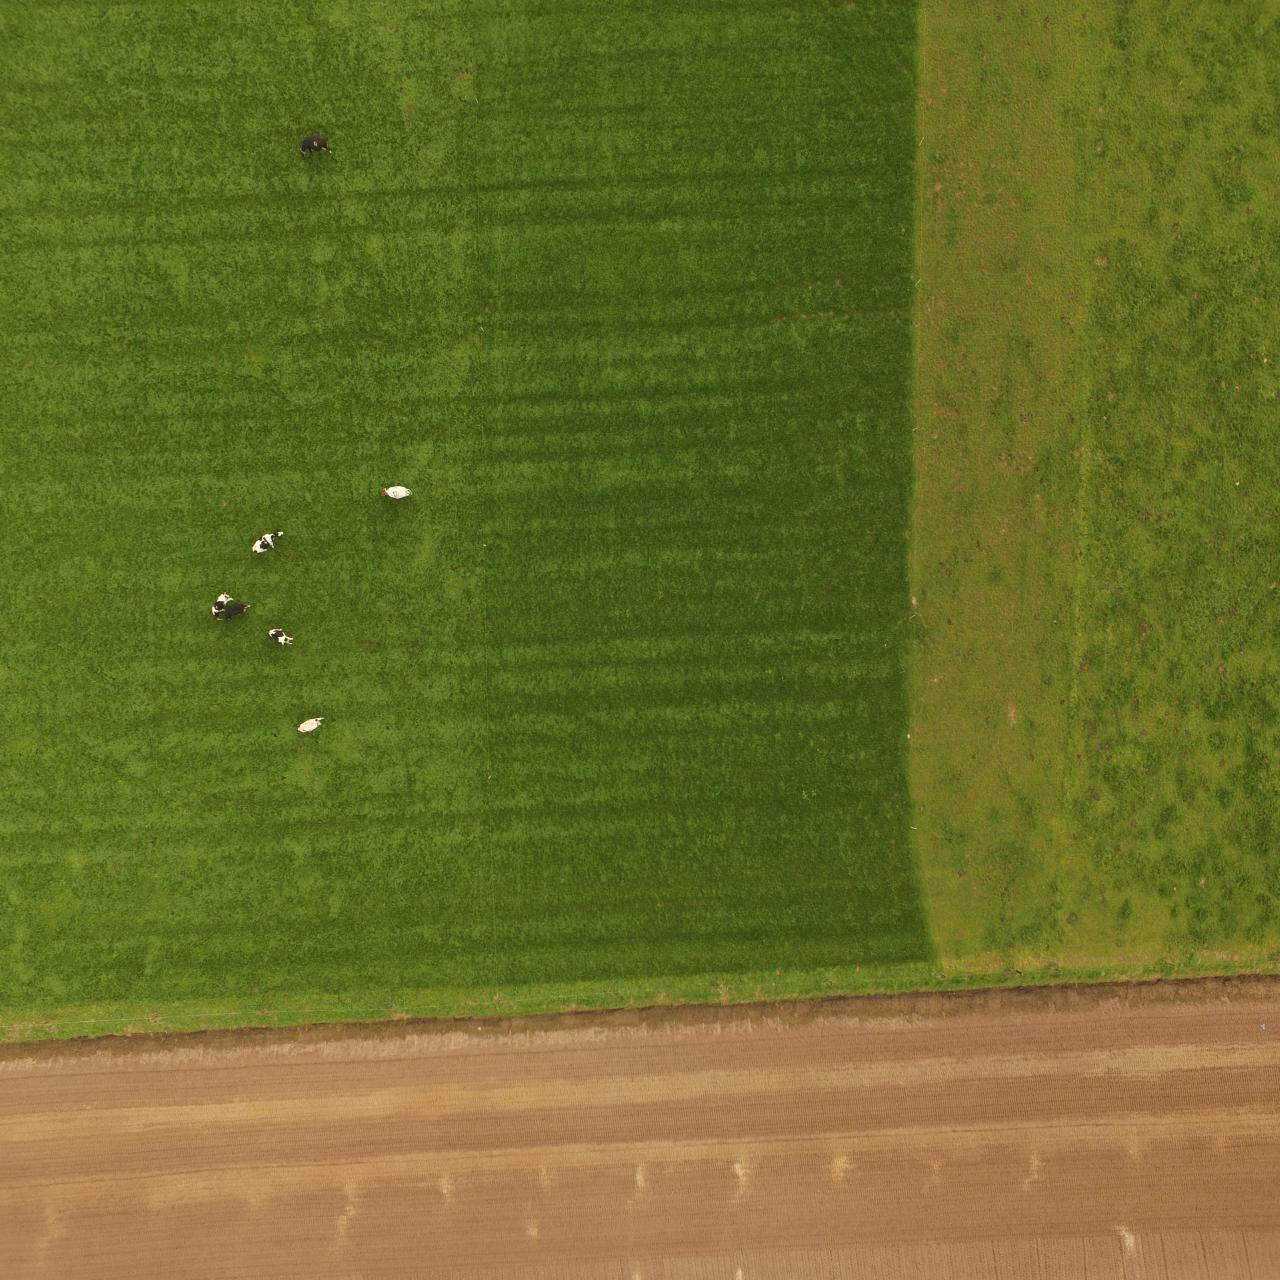cow: (298, 134, 336, 159), (250, 530, 288, 552), (210, 590, 237, 621), (294, 714, 325, 735), (382, 482, 411, 503), (267, 628, 297, 645), (224, 605, 256, 618)
